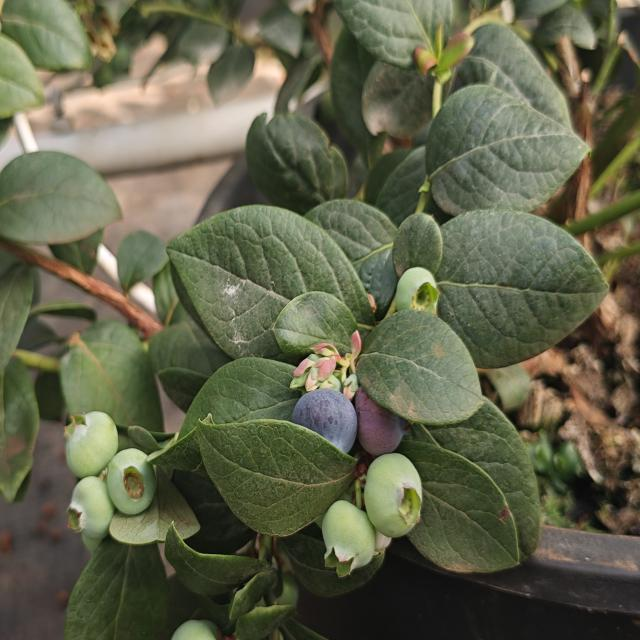ripe: (286, 384, 367, 451)
